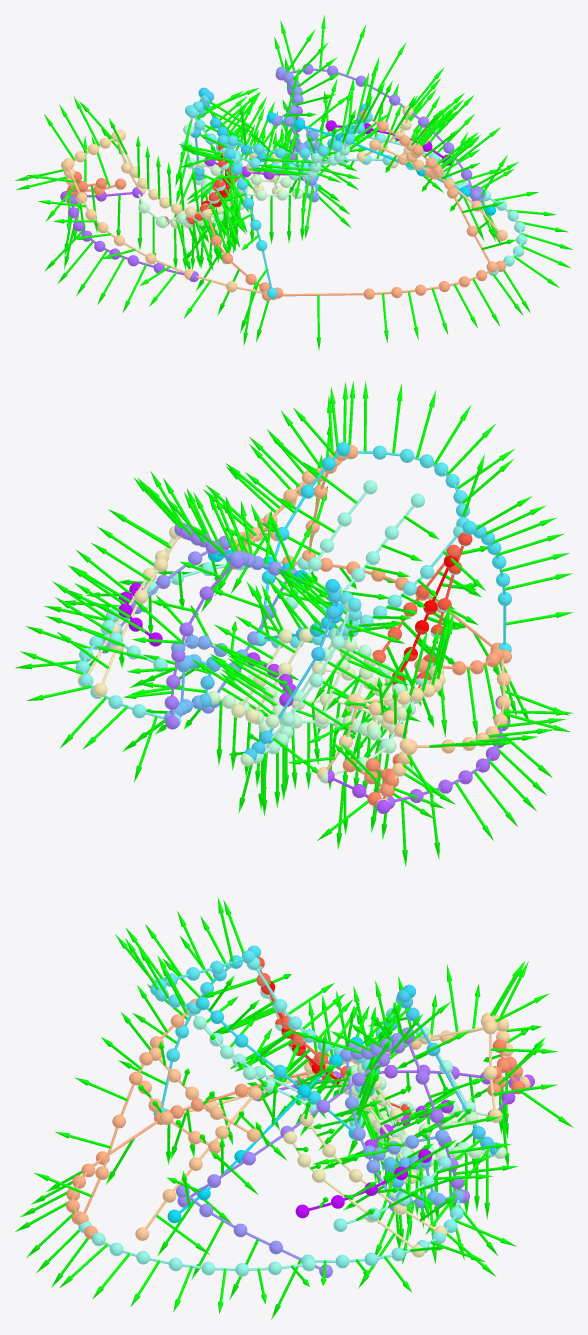
The model's file is author1_building.gltf.
3 renders of one model, top to bottom at view 1: azimuth 30°, elevation 25°; view 2: azimuth 150°, elevation 25°; view 3: azimuth 270°, elevation 25°, orthographic. The views are drawn at different scales.
Bounding box in the file's own units: 0.8801 × 0.4609 × 0.8098.
